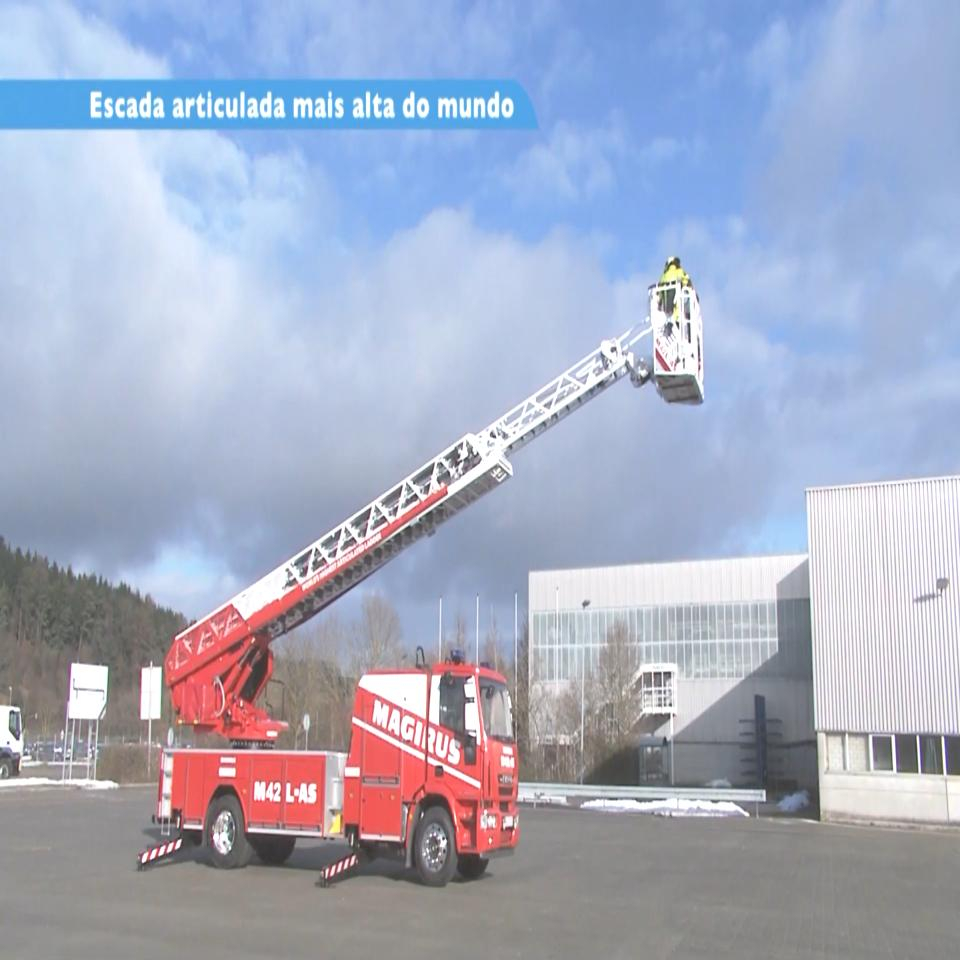bombeiro: (133, 280, 707, 890)
